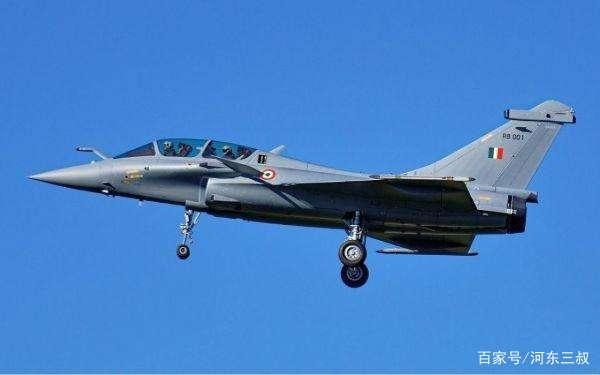airplane: (23, 94, 578, 289)
